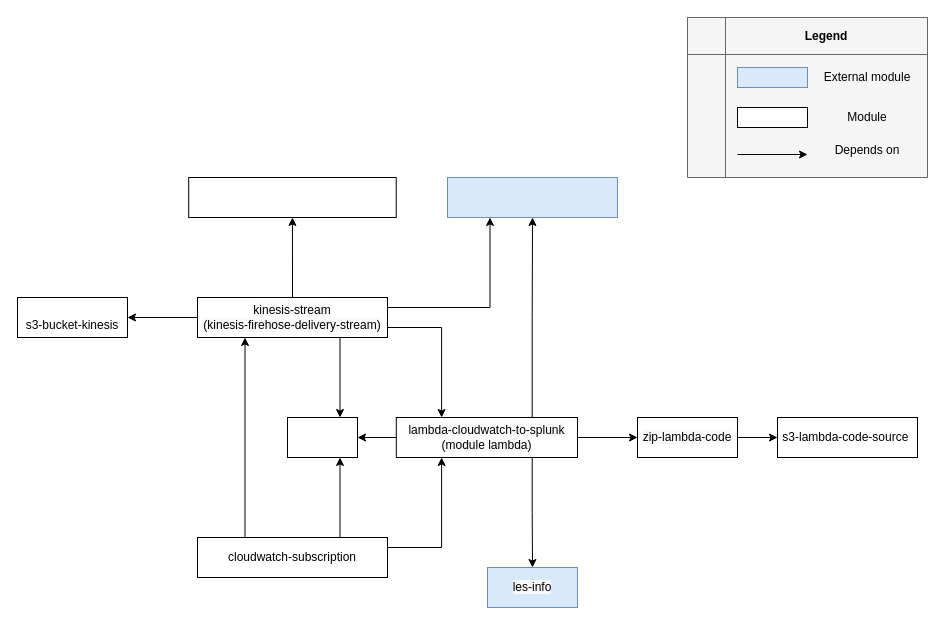
Image size: 945x625. Some labels were removed from this diagram. The shapes that lost their labels are listed below. From the top down, each one's centre as x and y in pixels, then its label:
(292,197): Vault (vault_splunk_hec_path and hec_url)
(532,197): Centralized KMS
(322,437): Iam role
